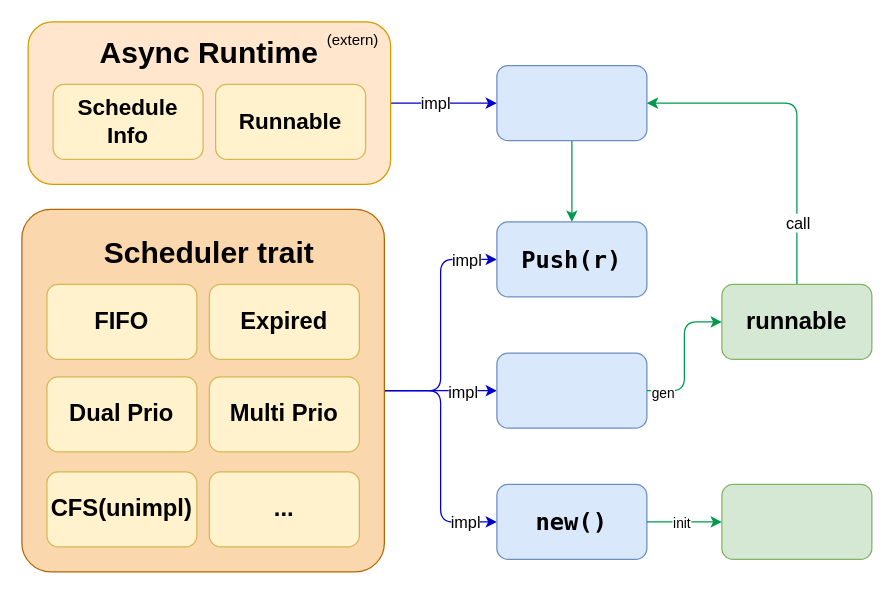
Some shapes in this 894 by 594 pixel diagram are drawn without their labels. Each missing label, with the centre of its shape:
"Pop()" belongs at point (571, 390).
"scheduler" belongs at point (796, 521).
"task. run()" belongs at point (571, 102).
